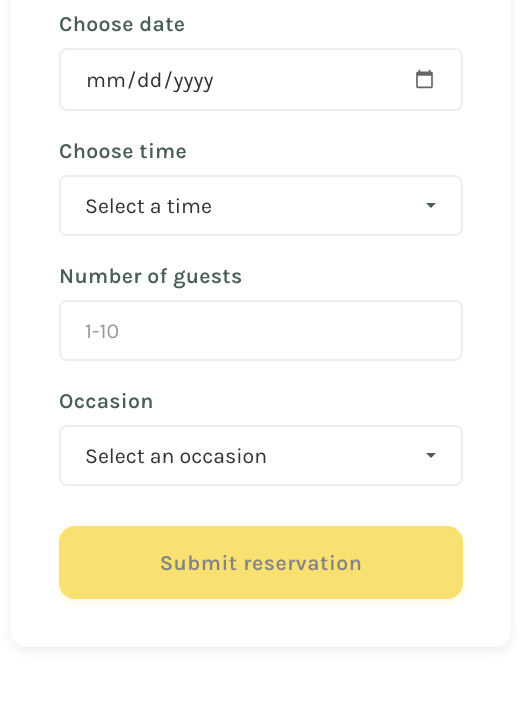
BookingForm › Error Message Display › displays error message for guests when invalid and touched
Type "15" into the number field labelled "Number of guests" at x=261, y=330, box [59, 300, 463, 361]
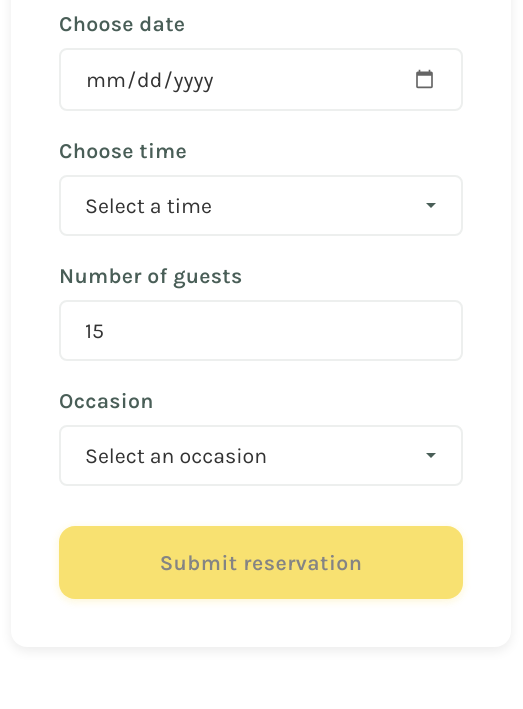
Leave the number field labelled "Number of guests", box [59, 300, 463, 361]
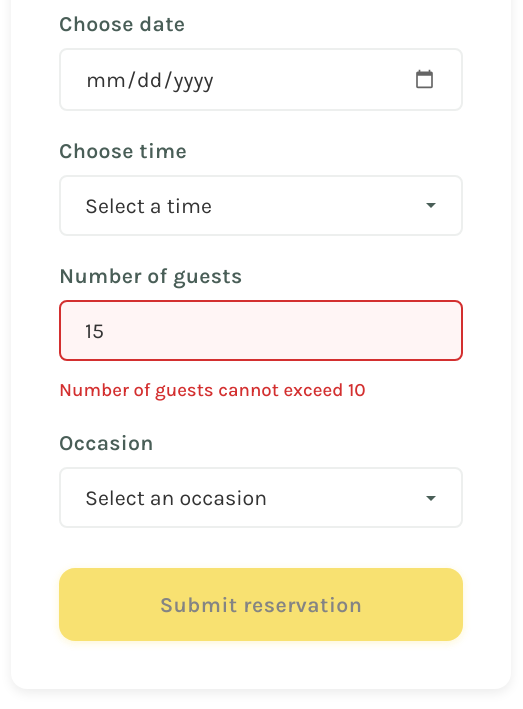
Check: the text "Number of guests cannot exceed 10" is shown, box [59, 379, 366, 401]
